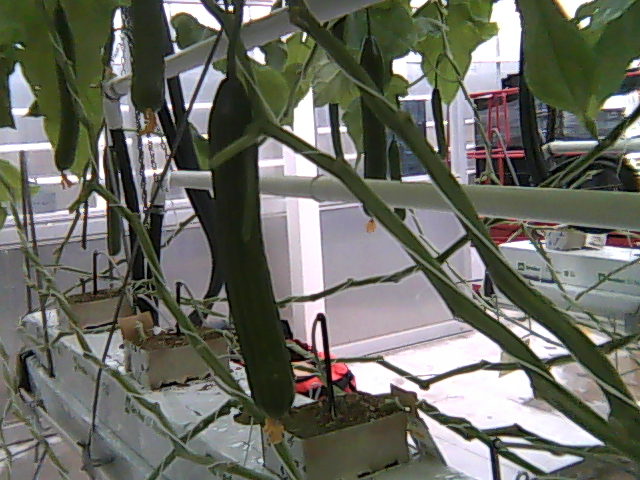concombre: (206, 67, 300, 449), (129, 1, 168, 138)
